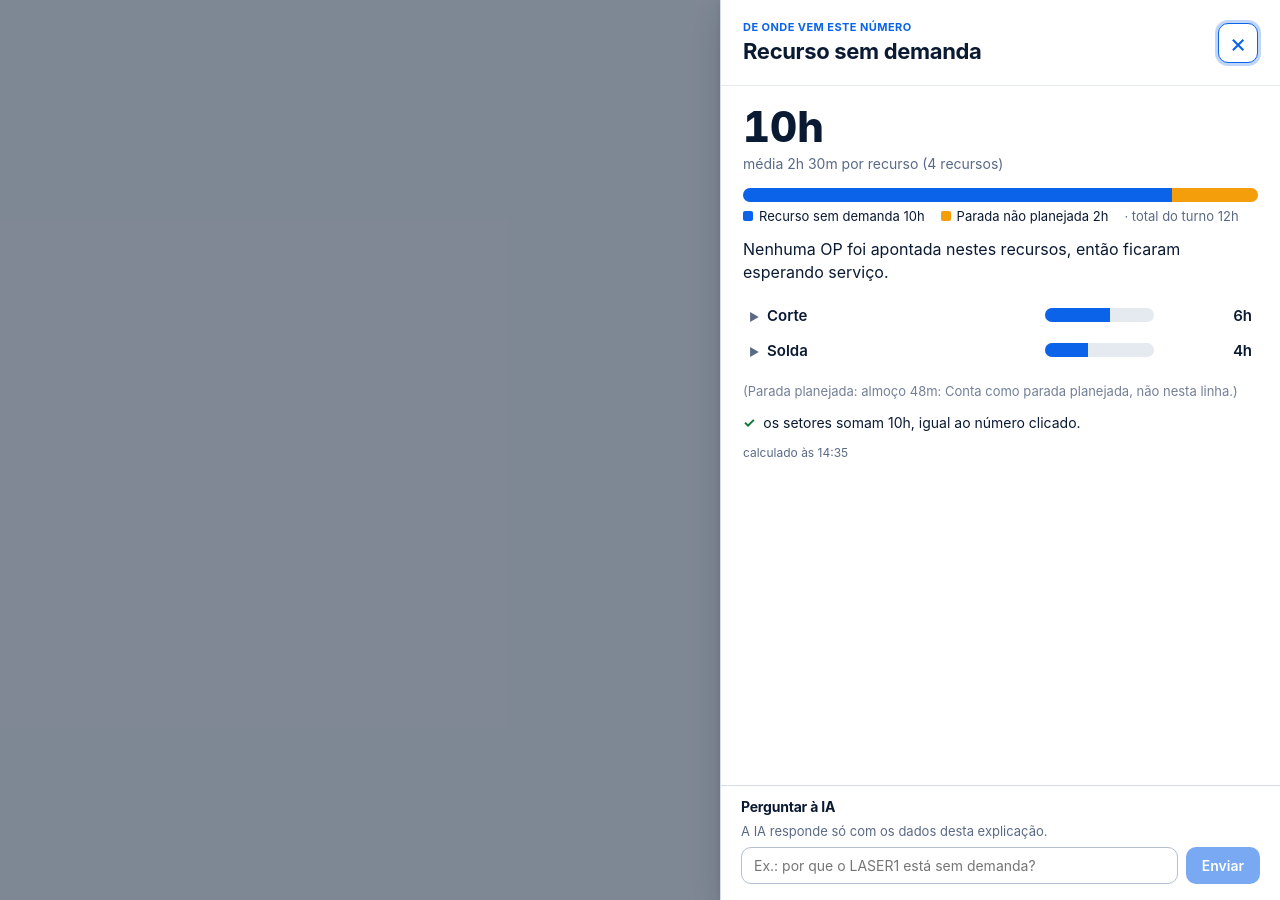
Test: MetricExplanationPanel chat › envia a pergunta com {metric, filters} e mostra a resposta em streaming
The width and height of the screenshot is (1280, 900).
Check: the text "10h" is shown, box [743,101,824,152]
Type "por que o LASER1 está sem demanda?" into the field named "Pergunta para a IA" at (959, 866), box [741,847,1178,884]
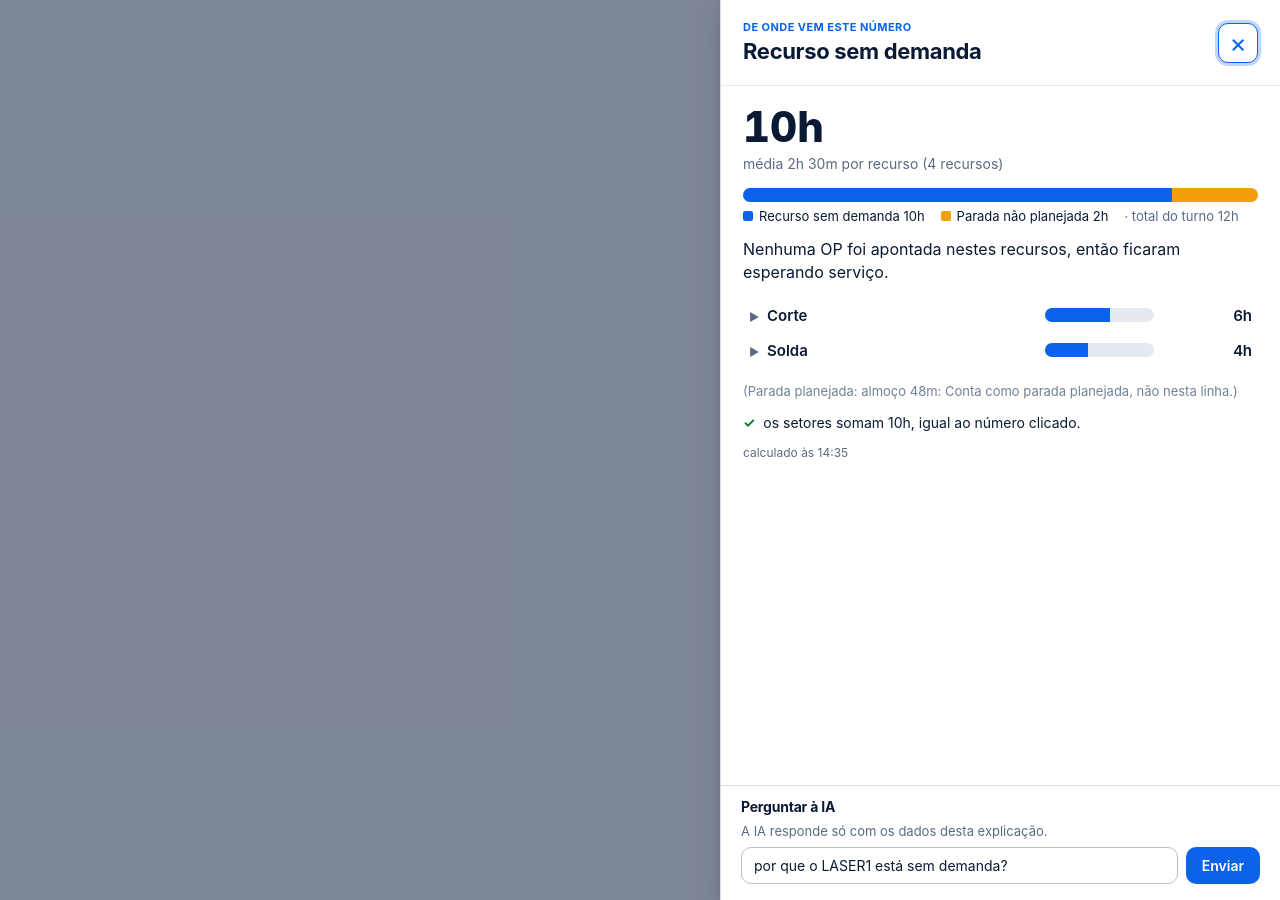
Click the button "Enviar" at (1223, 866), box [1186,847,1260,884]
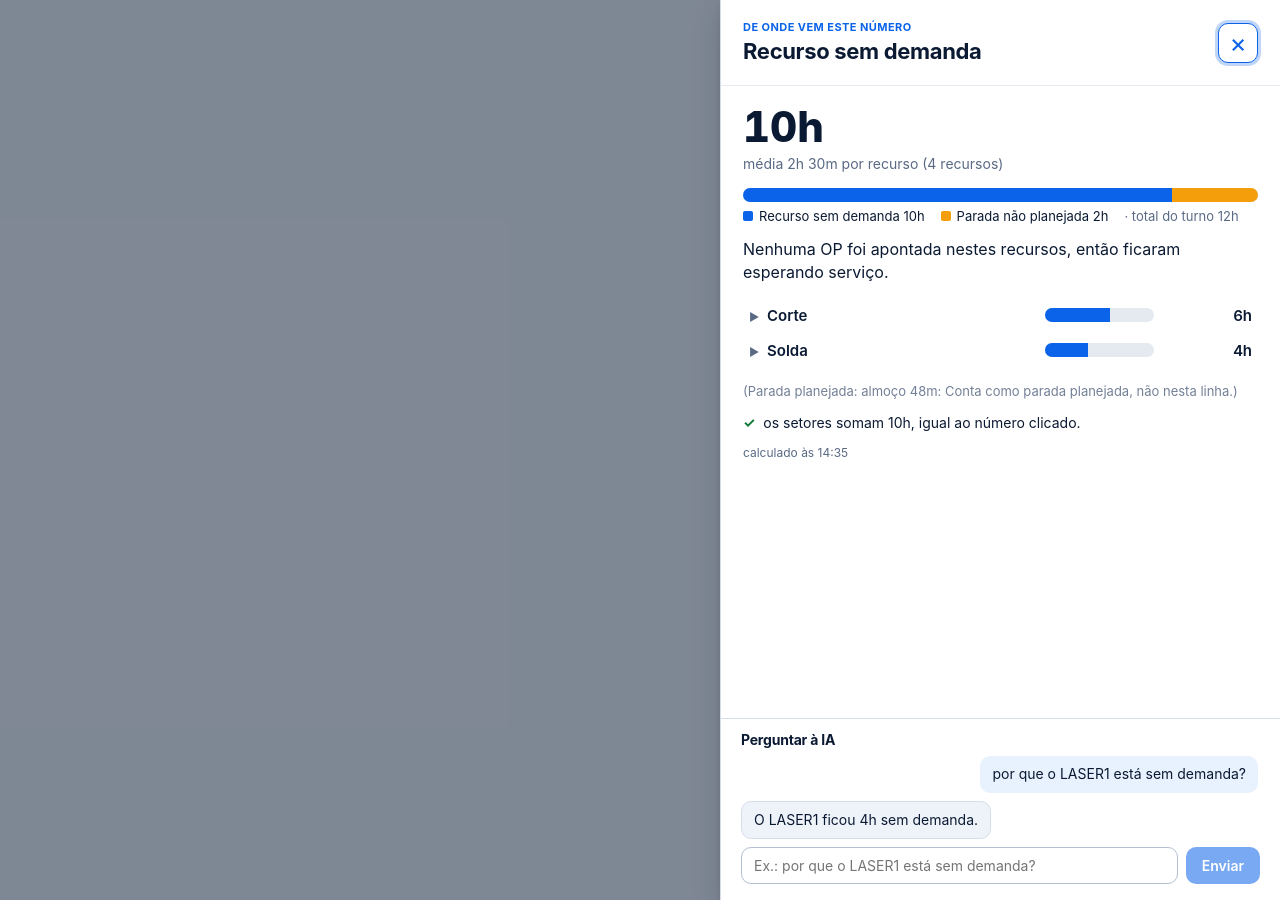
Check: the text "O LASER1 ficou 4h sem demanda." is shown, box [754,810,978,830]
Check: the text "por que o LASER1 está sem demanda?" is shown, box [992,764,1246,785]
